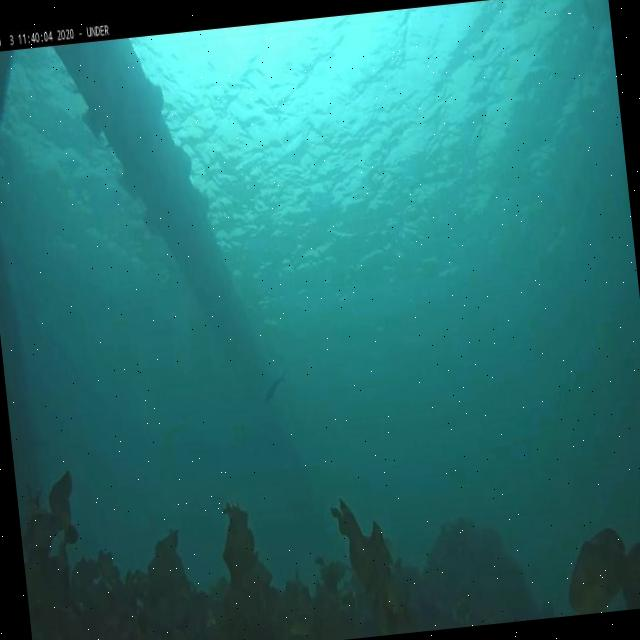fish: (260, 373, 288, 405)
